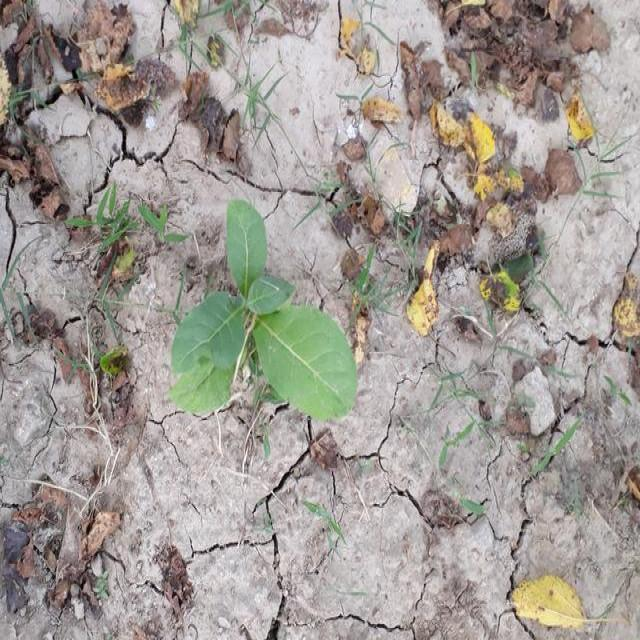crop: (168, 196, 352, 422)
